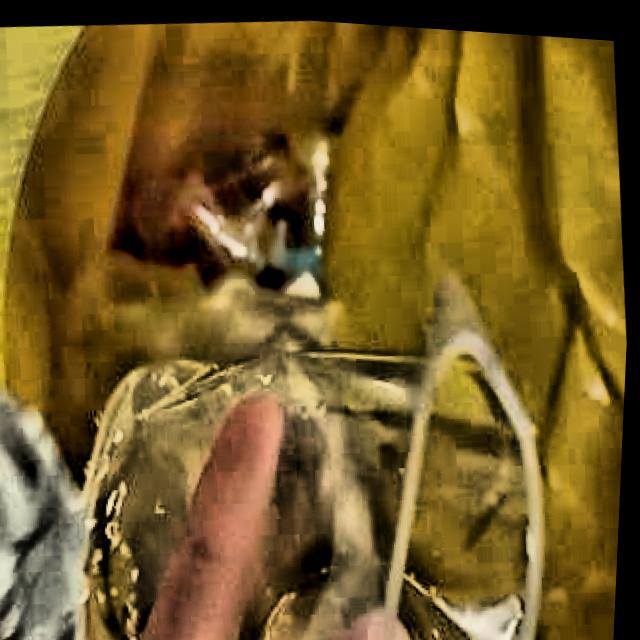plastic: (90, 281, 548, 640)
